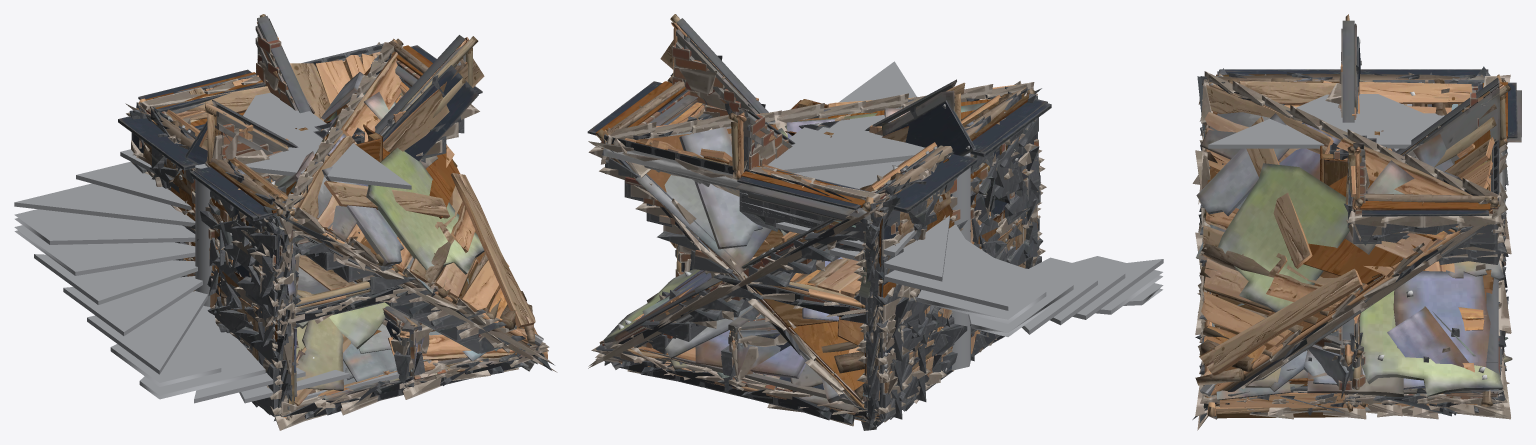
The model's file is builds.glb.
3 views of the same model, side by side, from view 1: azimuth 30°, elevation 25°; view 2: azimuth 150°, elevation 25°; view 3: azimuth 270°, elevation 25° (orthographic). The views are drawn at different scales.
Visible parts, largest first — view 1: W1_StairSpiral:S_SpiralStaircaseTest, W2_RoofD:PBW_W2_RoofD, M1_RoofD:PBW_M1_RoofD, M1_RoofC:PBW_M1_RoofC, W2_RoofI:PBW_W2_RoofI, B2_RoofD:PBW_B2_RoofD, W2_StairR:PBW_W2_StairR, M3_StairR:PBW_M3_StairR, W1_RoofD:PBW_W1_RoofD, W1_StairR:PBW_W1_StairR, B3_RoofWall:PBW_B3_RoofWall, M3_StairW:PBW_M3_StairW (+41 smaller); view 2: W1_StairSpiral:S_SpiralStaircaseTest, M1_RoofD:PBW_M1_RoofD, B2_RoofD:PBW_B2_RoofD, B3_StairW:PBW_B3_StairW, W3_RoofD:PBW_W3_RoofD, M1_RoofC:PBW_M1_RoofC, M3_StairF:PBW_M3_StairF, B3_StairR:PBW_B3_StairR, B2_StairR:PBW_B2_StairR, W2_StairR:PBW_W2_StairR, M3_StairW:PBW_M3_StairW, B1_StairR:PBW_B1_StairR (+50 smaller); view 3: W2_RoofD:PBW_W2_RoofD, M1_RoofD:PBW_M1_RoofD, M1_RoofS:PBW_M1_RoofS, W1_StairSpiral:S_SpiralStaircaseTest, M1_RoofO:PBW_M1_RoofO, B2_RoofD:PBW_B2_RoofD, W2_RoofI:PBW_W2_RoofI, M1_RoofC:PBW_M1_RoofC, B3_StairR:PBW_B3_StairR, W3_RoofD:PBW_W3_RoofD, W1_RoofD:PBW_W1_RoofD, M2_StairT:PBW_M2_StairT (+37 smaller).
Boxes of the visible parts, x1,y1,x2,y2 form: W1_StairSpiral:S_SpiralStaircaseTest: (14, 92, 411, 403); W2_RoofD:PBW_W2_RoofD: (290, 52, 541, 346); M1_RoofD:PBW_M1_RoofD: (275, 72, 486, 319); M1_RoofC:PBW_M1_RoofC: (296, 317, 536, 390); W2_RoofI:PBW_W2_RoofI: (166, 51, 527, 339); B2_RoofD:PBW_B2_RoofD: (273, 42, 508, 346); W2_StairR:PBW_W2_StairR: (299, 37, 547, 358); M3_StairR:PBW_M3_StairR: (381, 45, 482, 161); W1_RoofD:PBW_W1_RoofD: (280, 215, 535, 356); W1_StairR:PBW_W1_StairR: (296, 36, 488, 311); B3_RoofWall:PBW_B3_RoofWall: (181, 231, 300, 415); M3_StairW:PBW_M3_StairW: (118, 116, 318, 256); W1_StairSpiral:S_SpiralStaircaseTest: (740, 61, 1163, 369); M1_RoofD:PBW_M1_RoofD: (609, 97, 986, 400); B2_RoofD:PBW_B2_RoofD: (601, 81, 1034, 396); B3_StairW:PBW_B3_StairW: (596, 222, 879, 361); W3_RoofD:PBW_W3_RoofD: (636, 99, 990, 408); M1_RoofC:PBW_M1_RoofC: (604, 270, 868, 423); M3_StairF:PBW_M3_StairF: (882, 98, 1047, 156); B3_StairR:PBW_B3_StairR: (605, 55, 872, 323); B2_StairR:PBW_B2_StairR: (588, 68, 1041, 316); W2_StairR:PBW_W2_StairR: (600, 22, 872, 308); M3_StairW:PBW_M3_StairW: (673, 103, 1051, 338); B1_StairR:PBW_B1_StairR: (601, 44, 977, 313); W2_RoofD:PBW_W2_RoofD: (1199, 82, 1493, 397); M1_RoofD:PBW_M1_RoofD: (1196, 83, 1506, 312); M1_RoofS:PBW_M1_RoofS: (1212, 78, 1502, 400); W1_StairSpiral:S_SpiralStaircaseTest: (1208, 94, 1444, 151); M1_RoofO:PBW_M1_RoofO: (1289, 261, 1504, 393); B2_RoofD:PBW_B2_RoofD: (1192, 71, 1505, 389); W2_RoofI:PBW_W2_RoofI: (1203, 81, 1498, 375); M1_RoofC:PBW_M1_RoofC: (1212, 306, 1504, 395); B3_StairR:PBW_B3_StairR: (1198, 155, 1507, 412); W3_RoofD:PBW_W3_RoofD: (1207, 111, 1436, 371); W1_RoofD:PBW_W1_RoofD: (1195, 83, 1502, 395); M2_StairT:PBW_M2_StairT: (1355, 77, 1521, 341).
Size of the model in its own units: 1.59 by 1.07 by 1.14.
Materials: 11 (10 with a texture image).
